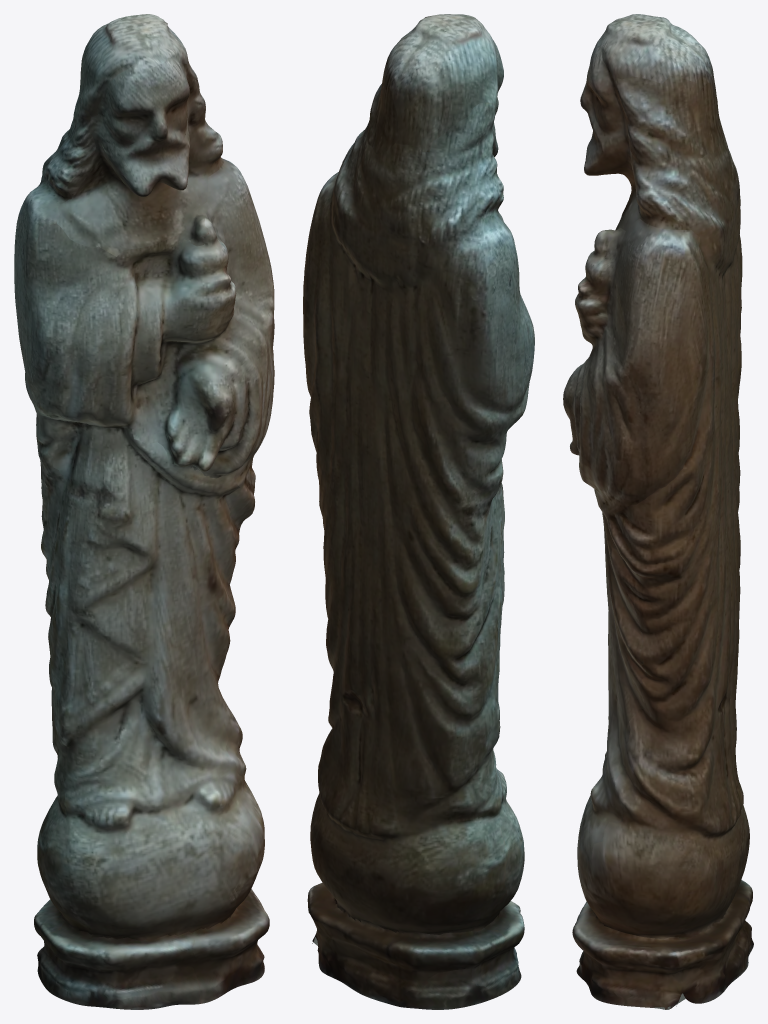
Rendered from sacred-heart-of-jesus.glb.
3 renders of one model, left to right at view 1: azimuth 30°, elevation 25°; view 2: azimuth 150°, elevation 25°; view 3: azimuth 270°, elevation 25°, orthographic. The views are drawn at different scales.
Parts seen in each view (by area): view 1: sacred-heart-of-jesus; view 2: sacred-heart-of-jesus; view 3: sacred-heart-of-jesus.
Boxes of the visible parts, x1=… form: sacred-heart-of-jesus: x1=14, y1=14, x2=274, y2=1009; sacred-heart-of-jesus: x1=303, y1=14, x2=534, y2=1009; sacred-heart-of-jesus: x1=563, y1=14, x2=753, y2=1009.
Size of the model in its own units: 0.2324 by 0.9463 by 0.1753.
2 materials, 2 textured.
